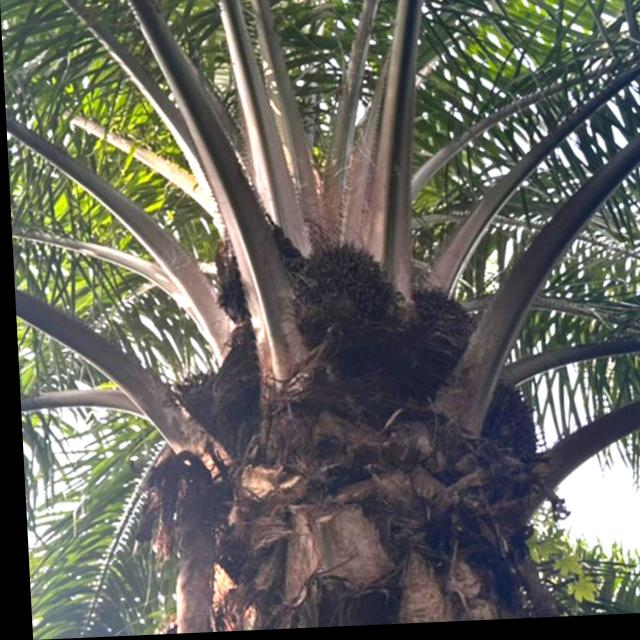unripe: (285, 247, 397, 350), (399, 289, 475, 386), (467, 380, 538, 472)
